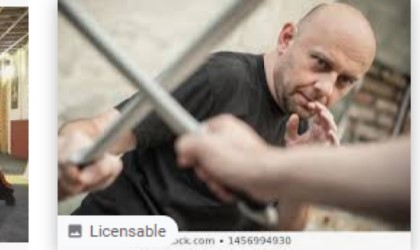baston_e: (97, 4, 238, 165), (71, 0, 169, 146)
baston_v: (230, 175, 285, 233)
